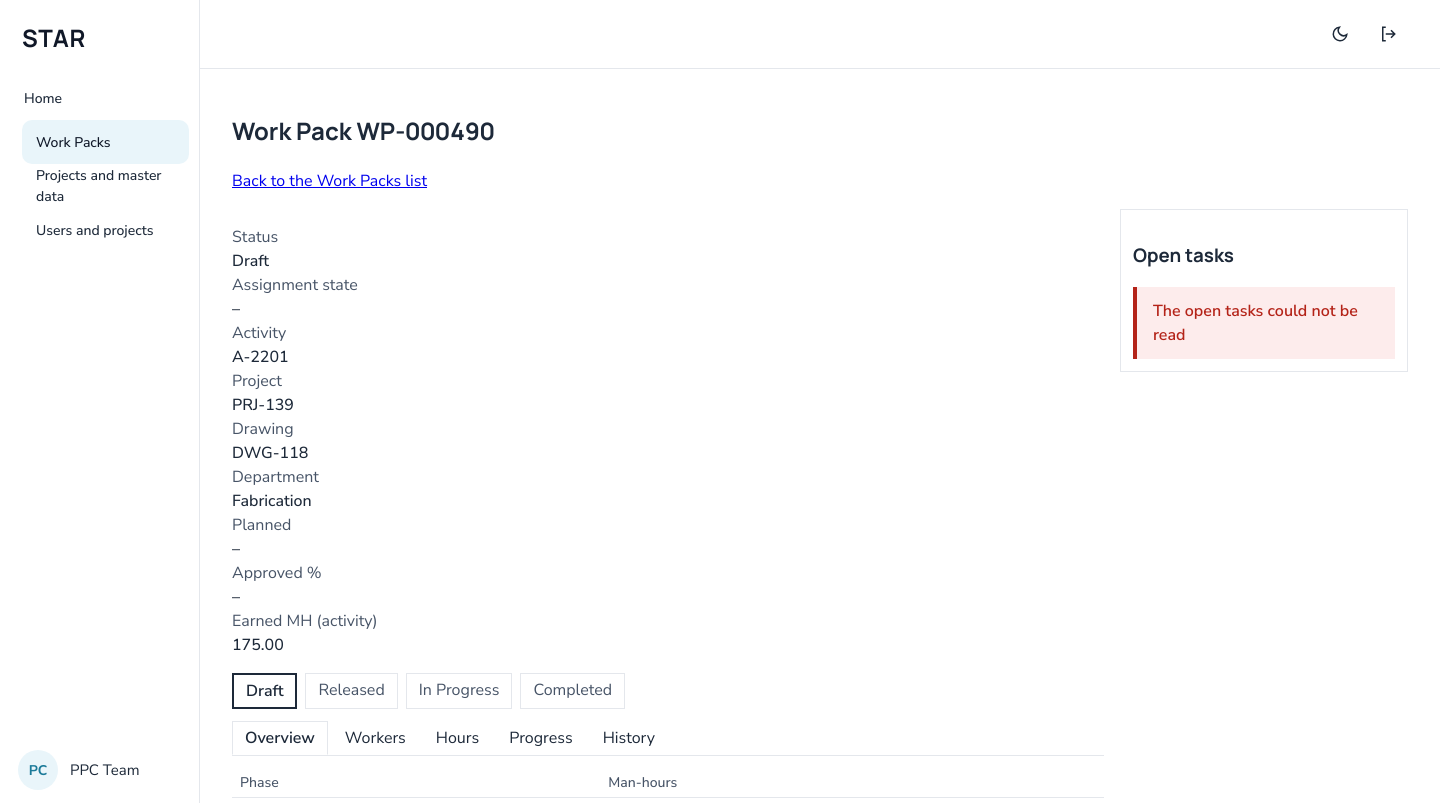
it: WorkPackDetailPage › BPA73_draftWorkPackHasNothingYet
Expected: the element showing "Overview Workers Hours Progress History" is shown, x1=232 y1=721 x2=1104 y2=756
What coordinates should you click on to do the following:
click the tab "Hours"
I would click on:
 (458, 738)
Its box is x1=423 y1=721 x2=492 y2=755.
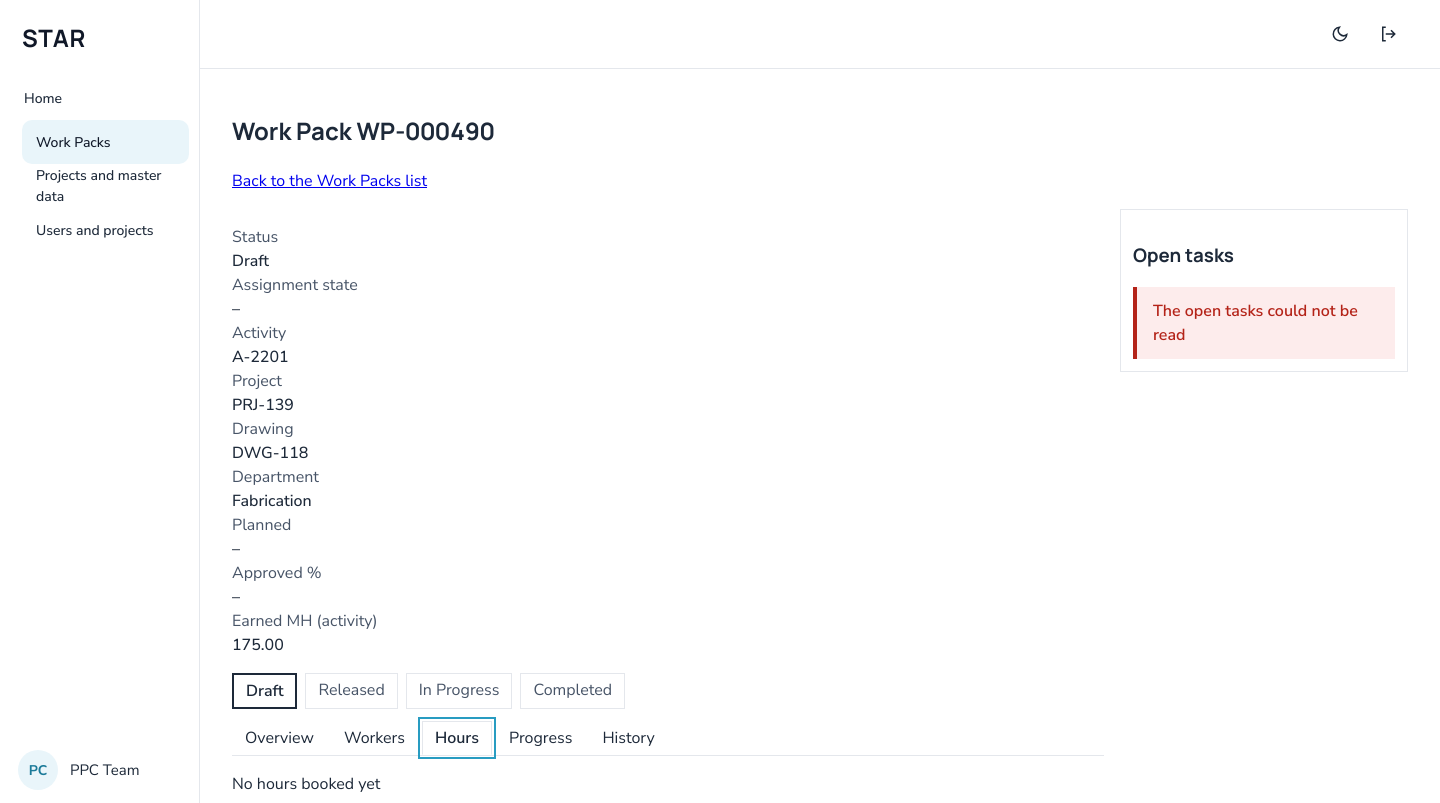
Result: the text "No hours booked yet" is shown at x1=232 y1=773 x2=380 y2=795
What coordinates should you click on to do the following:
click the tab "Progress"
I would click on:
 (541, 738)
Its box is x1=496 y1=721 x2=585 y2=755.
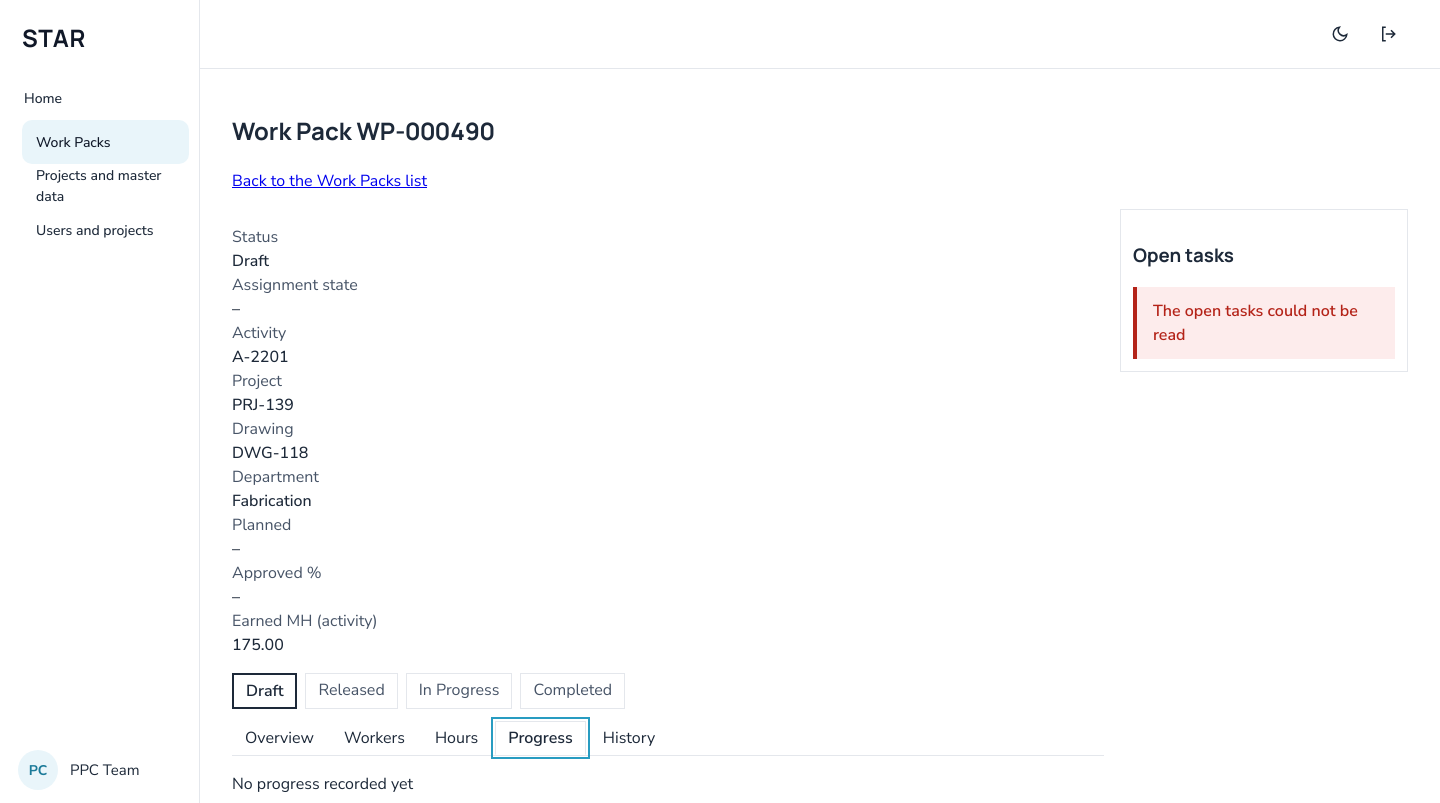
Result: the text "No progress recorded yet" is shown at x1=232 y1=773 x2=413 y2=795
